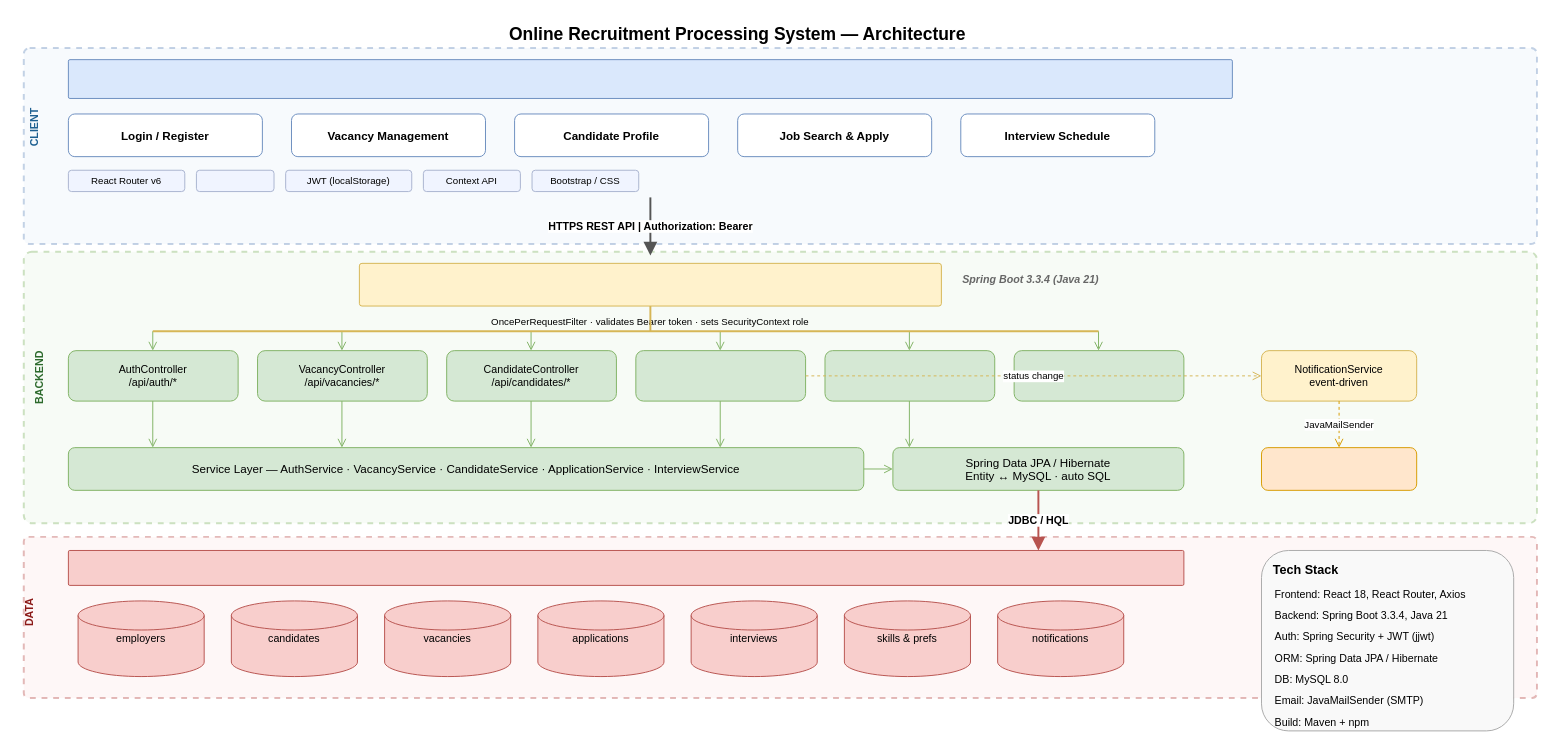
Image size: 1554x748. Some labels were removed from this diagram. Here are the shapes that lost their labels. From the top down, the centre of each, then its label:
At point (649, 78): "React 18 — Single Page Application".
At point (234, 180): "Axios".
At point (649, 284): "Spring Security — JWT Filter".
At point (720, 375): "ApplicationController /api/applications/*".
At point (909, 375): "InterviewController /api/interviews/*".
At point (1098, 375): "ReportController /api/reports/*".
At point (1339, 468): "SMTP Server Gmail / SendGrid".
At point (625, 567): "MySQL 8.0".
